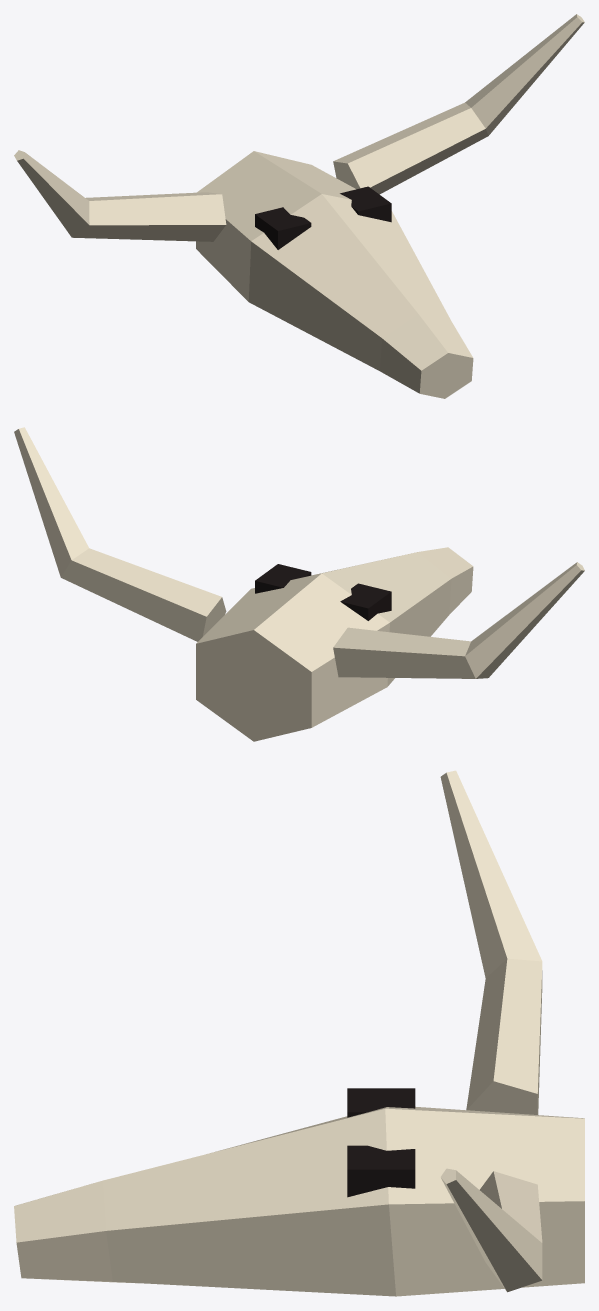
The model's file is SM_CowSkull.fbx.
The picture shows the model from 3 angles, top to bottom: view 1: azimuth 30°, elevation 25°; view 2: azimuth 150°, elevation 25°; view 3: azimuth 270°, elevation 25°; orthographic projection. The views are drawn at different scales.
Visible parts, largest first — view 1: CowSkull; view 2: CowSkull; view 3: CowSkull.
Part boxes in pixels (left/top/right/bottom): CowSkull: left=14, top=14, right=584, bottom=398; CowSkull: left=14, top=427, right=584, bottom=741; CowSkull: left=14, top=770, right=584, bottom=1296.
Bounding box in the file's own units: 85.06 × 50.43 × 31.44.
